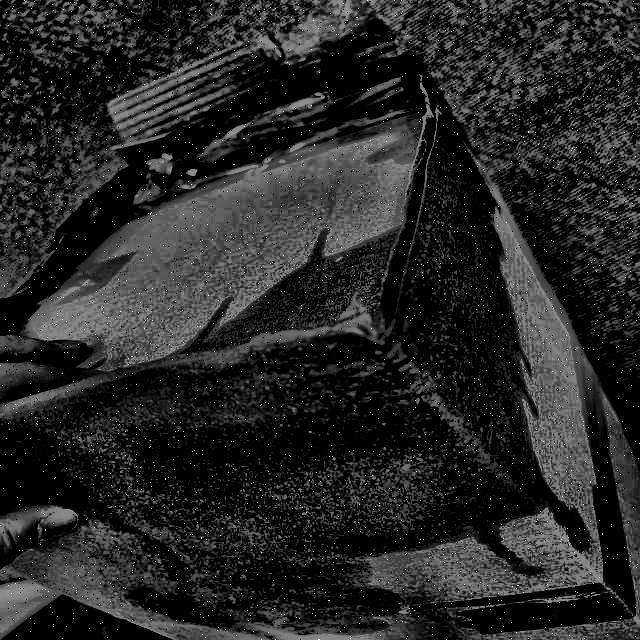box: (0, 0, 639, 639)
wet: (62, 157, 578, 640)
